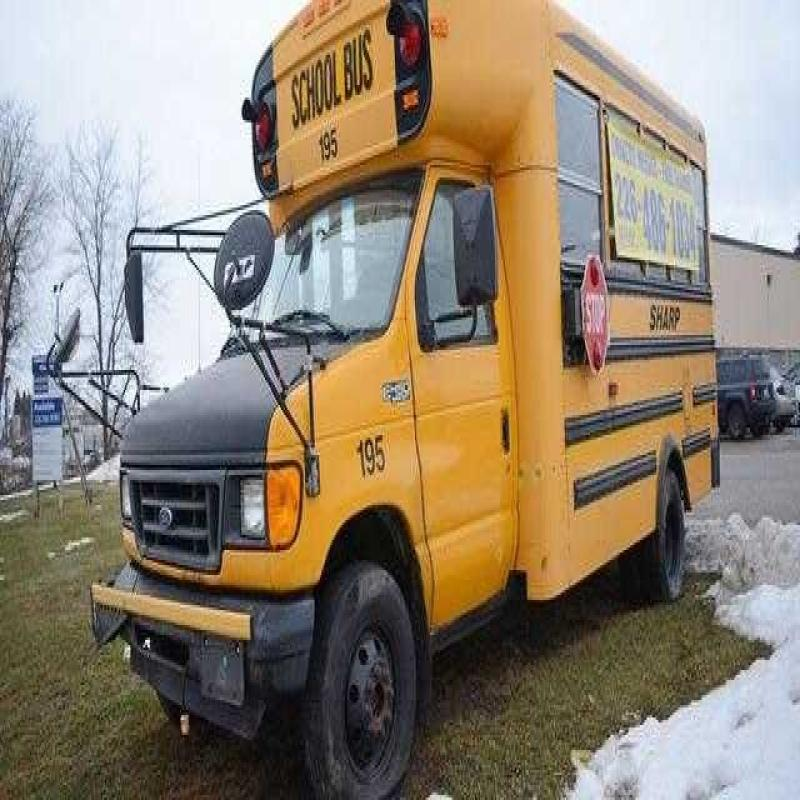bus: (112, 20, 783, 800)
